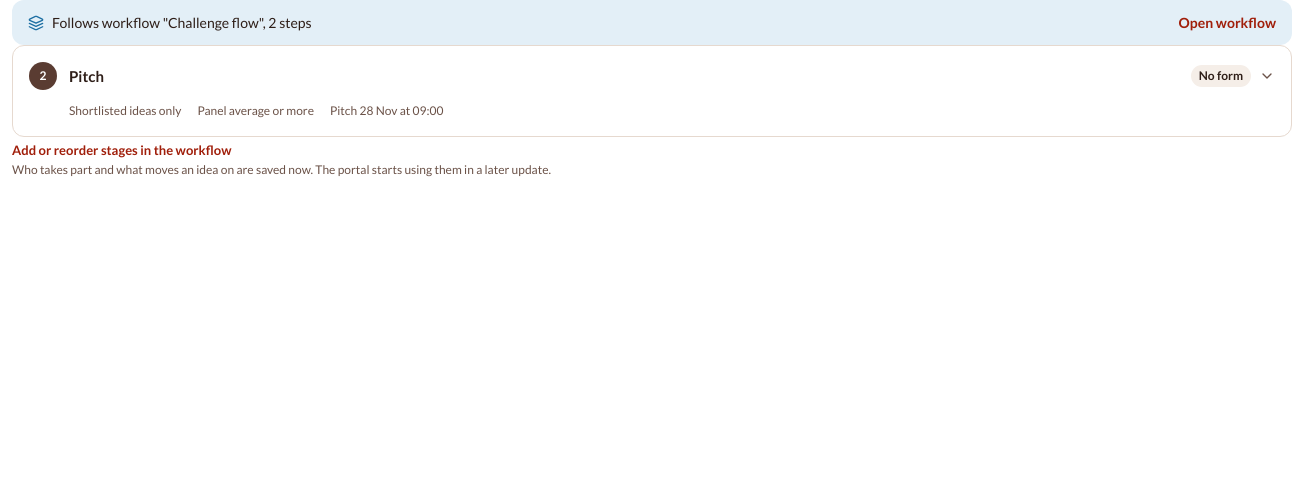
it: stage card › says times are per person, links to the schedule, and keeps an old stage time read-only
Click the button at (86, 76), box [13, 46, 1291, 136]
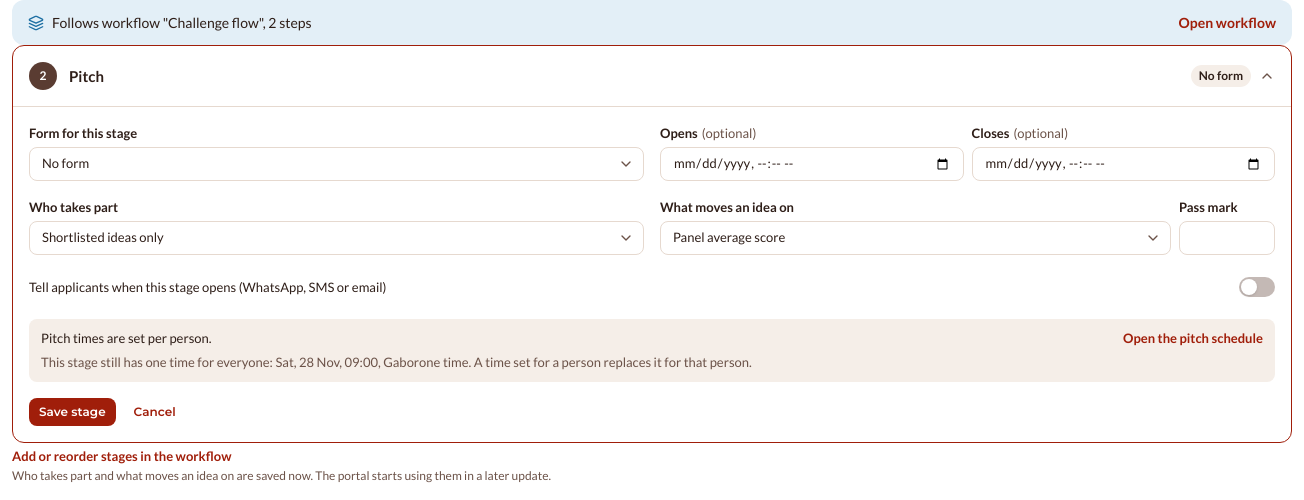
Expected: the text "Pitch times are set per person." is shown, [41, 329, 212, 348]
Expected: the link to "/programs/p1/edit?section=pitch" is shown, [1123, 329, 1263, 348]
Expected: the text "This stage still has one time for everyone: Sat, 28 Nov, 09:00, Gaborone time." is shown, [41, 354, 752, 370]
